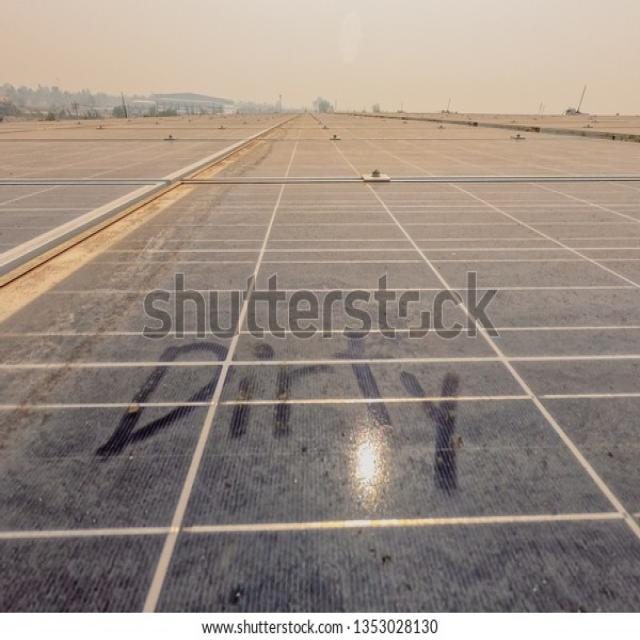dust-solar-panel: (0, 113, 640, 615)
